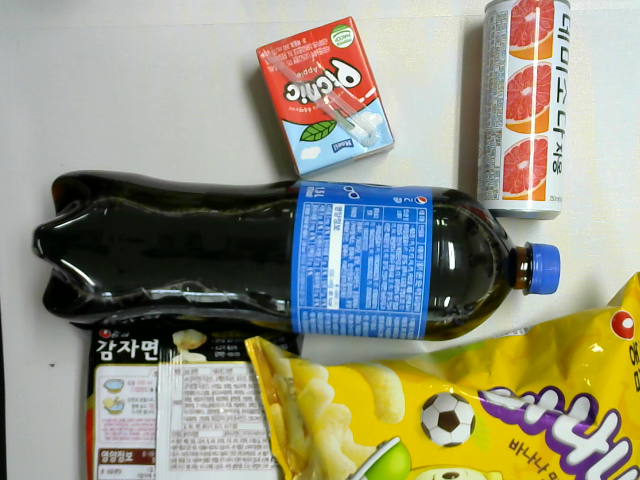Banana_Kick: (242, 268, 640, 477)
Demisoda_Grapefruit_Can_250ml: (473, 1, 573, 222)
Pepsi_Cola_1.5L: (33, 169, 561, 342)
Picnic_Apple: (254, 15, 397, 181)
Potato: (70, 311, 307, 480)
